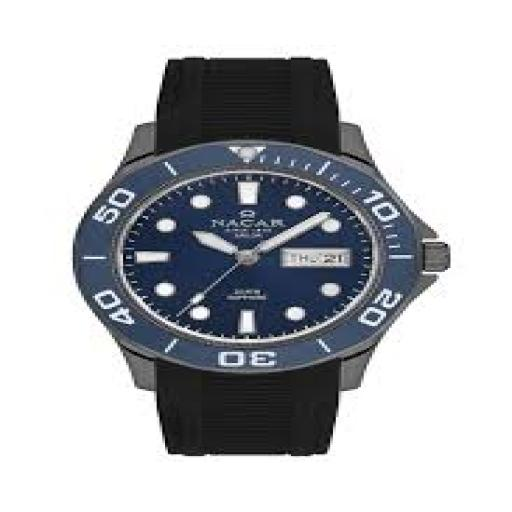KolSaati: (50, 32, 486, 486)
